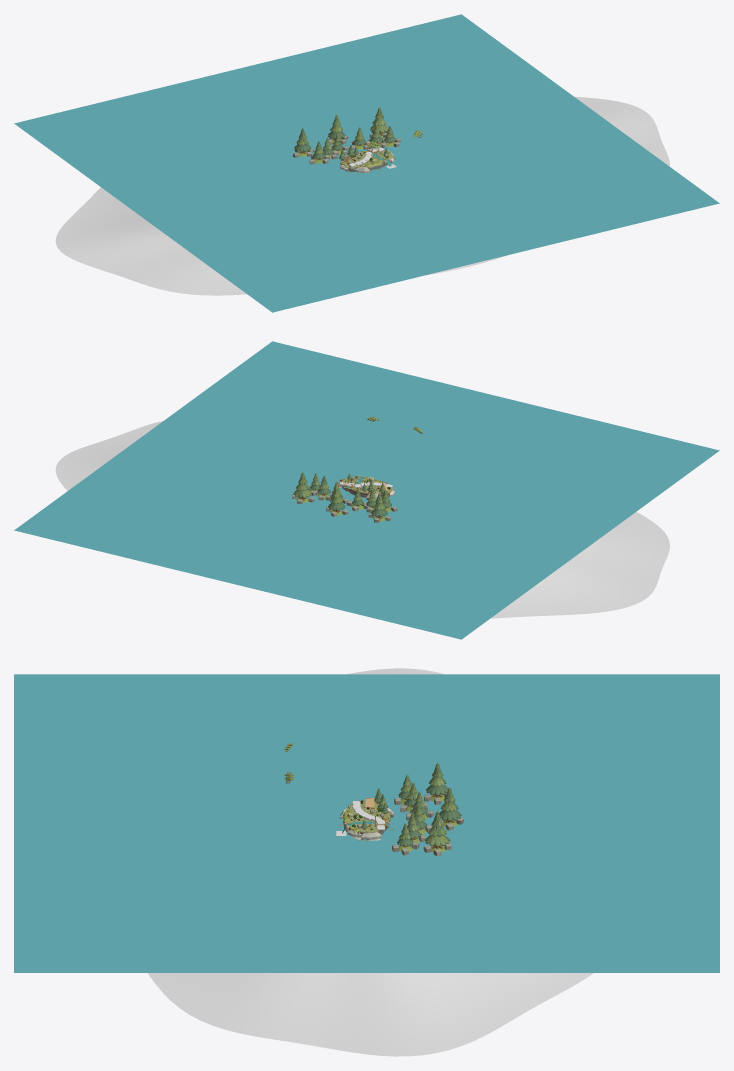
Rendered from FirstTrailPolished.fbx.
3 views of the same model, one above another, from view 1: azimuth 30°, elevation 25°; view 2: azimuth 150°, elevation 25°; view 3: azimuth 270°, elevation 25° (orthographic). The views are drawn at different scales.
Visible parts, largest first — view 1: Lake surround.003, Submerged sandy lake shelf.003; view 2: Lake surround.003, Submerged sandy lake shelf.003; view 3: Lake surround.003, Submerged sandy lake shelf.003.
Boxes of the visible parts, <box> form: Lake surround.003: <box>14,14,719,312</box>; Submerged sandy lake shelf.003: <box>55,96,669,295</box>; Lake surround.003: <box>14,341,719,639</box>; Submerged sandy lake shelf.003: <box>55,421,669,618</box>; Lake surround.003: <box>14,674,719,972</box>; Submerged sandy lake shelf.003: <box>148,668,593,1056</box>.
Size of the model in its own units: 9104 by 1144 by 7000.
